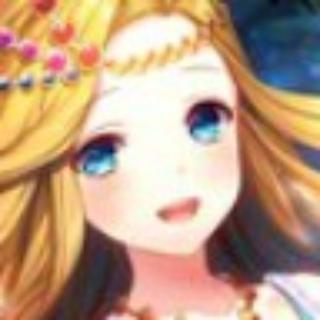eye: (50, 100, 139, 203)
